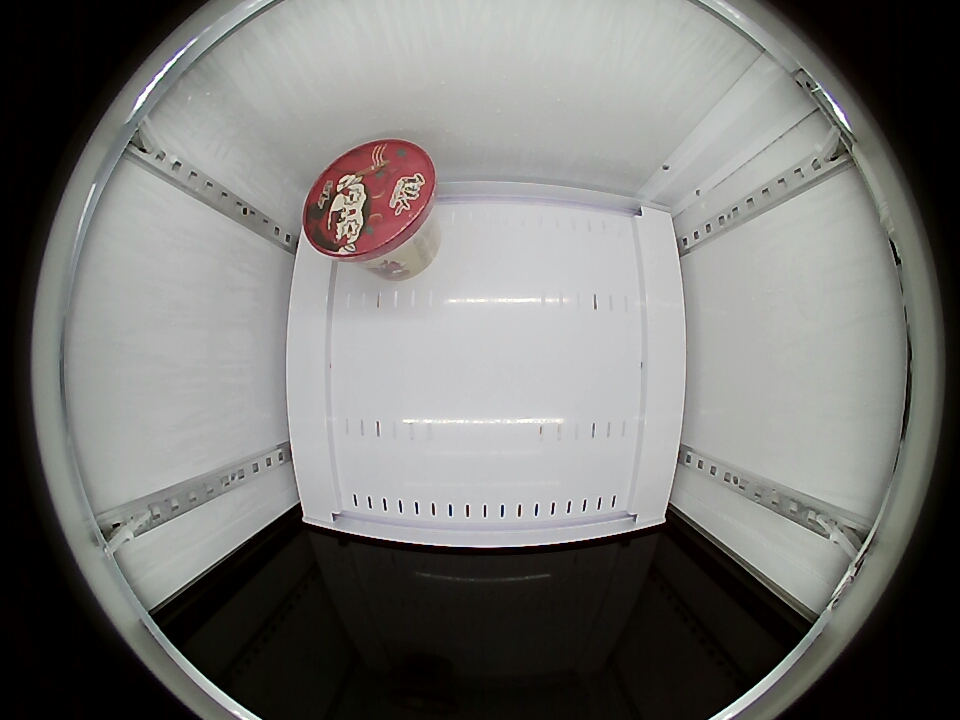suanlafen: (303, 140, 438, 267)
